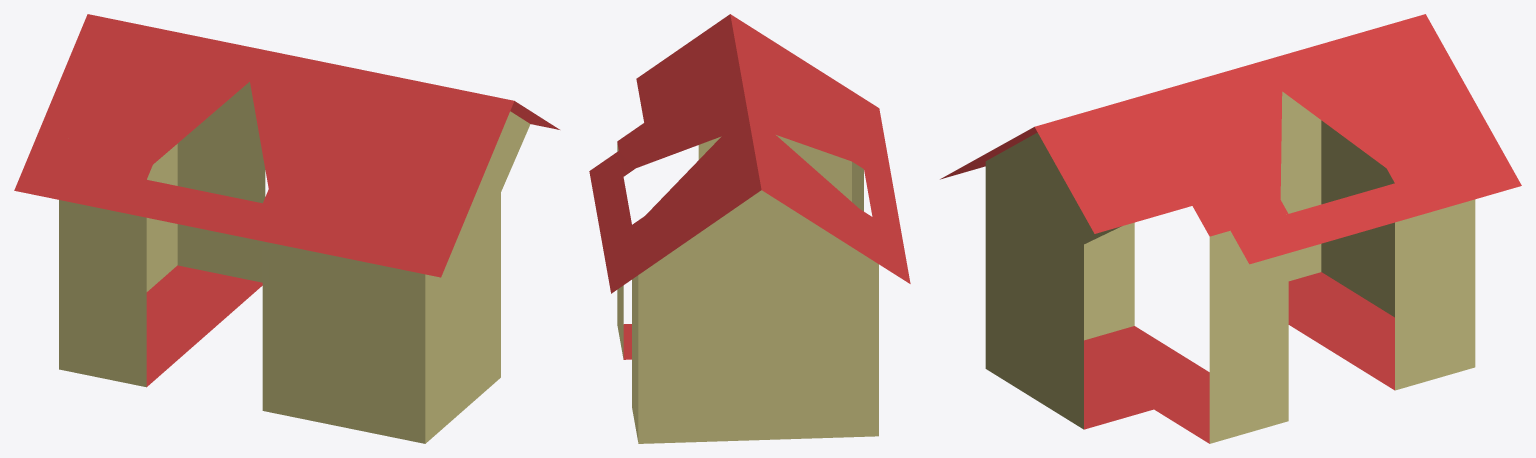
3 renders of one model, left to right at view 1: azimuth 30°, elevation 25°; view 2: azimuth 150°, elevation 25°; view 3: azimuth 270°, elevation 25°, orthographic. The views are drawn at different scales.
Size of the model in its own units: 14.74 by 17.36 by 9.78.
